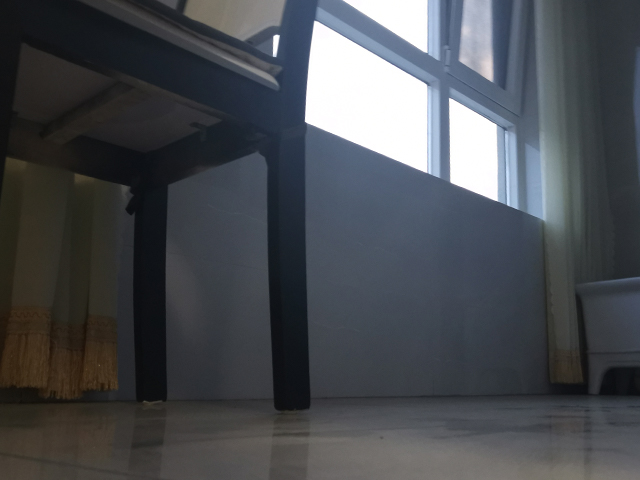curtain: (537, 1, 620, 386), (1, 153, 121, 404)
stool: (1, 1, 330, 413)
